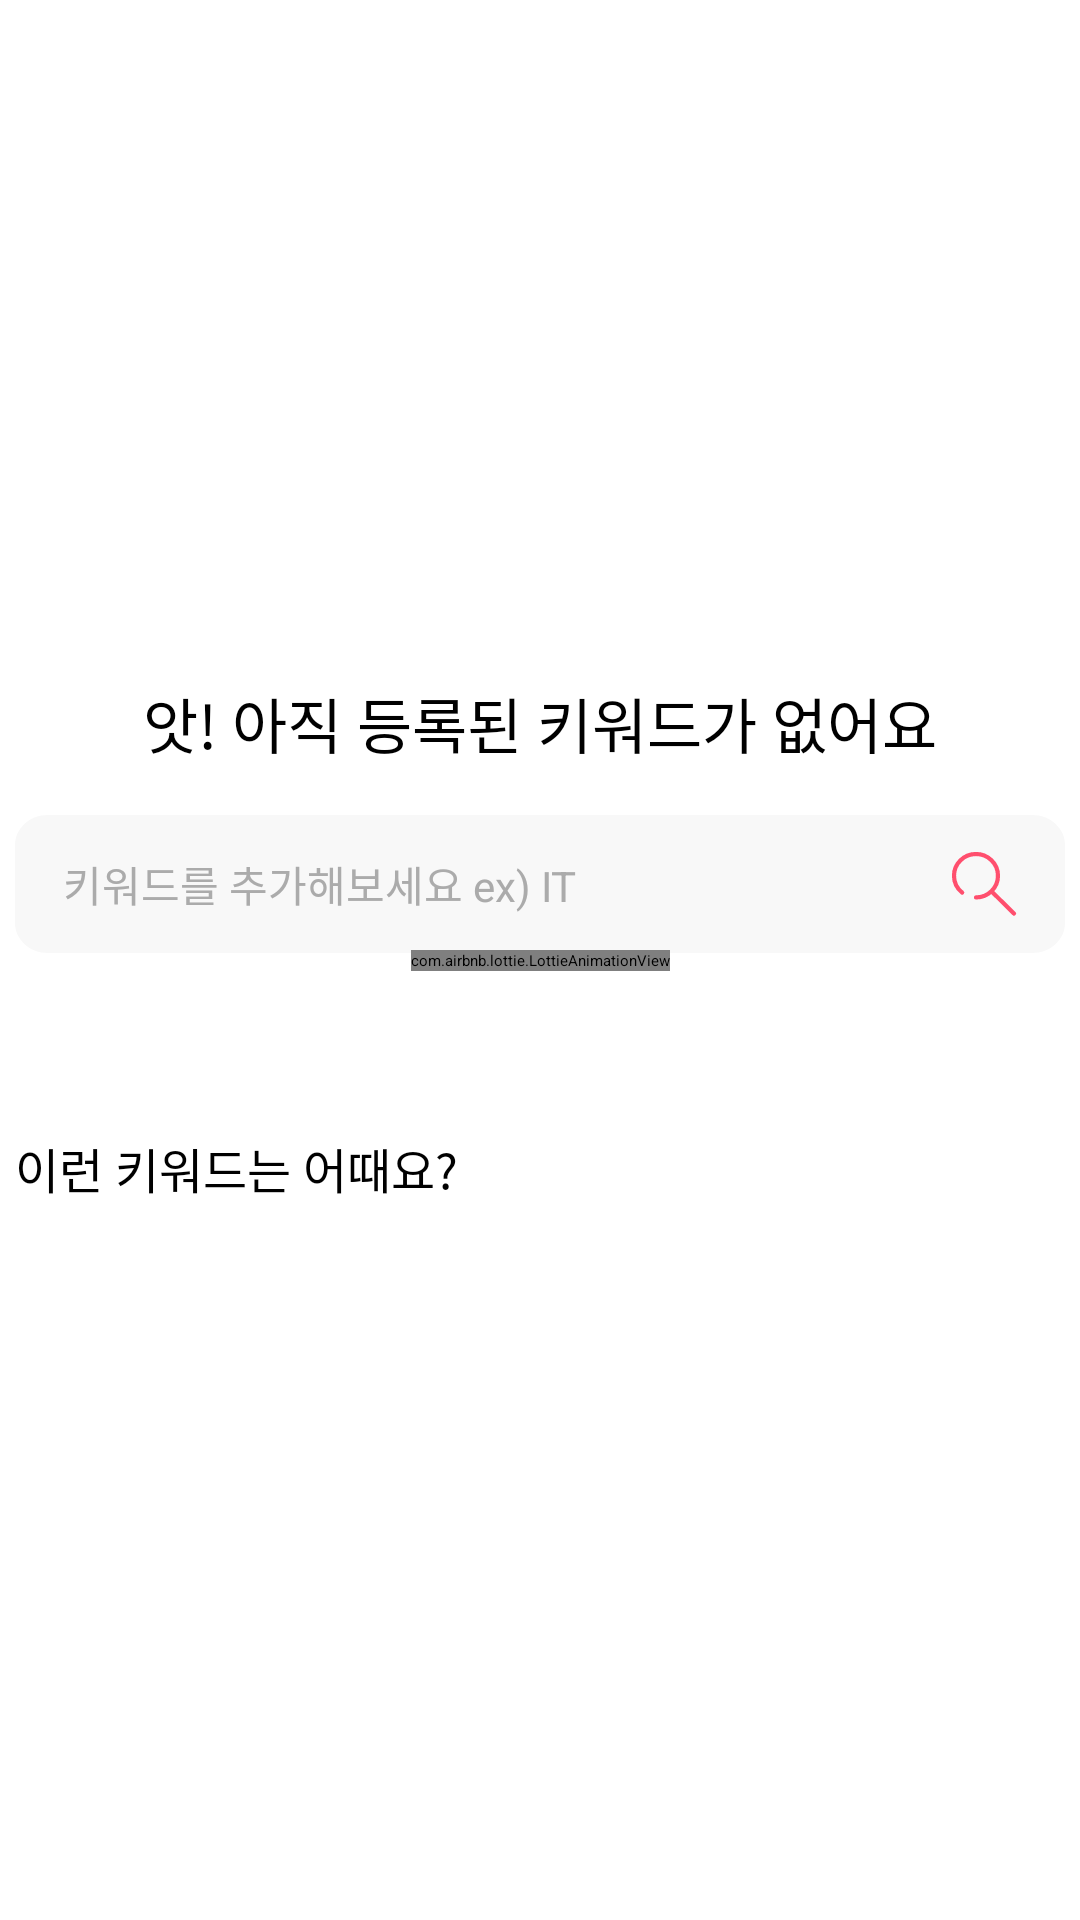

Point at icon controls on the screen. Image size 1080 x 1920, points as (x,y).
search: (984,884)
